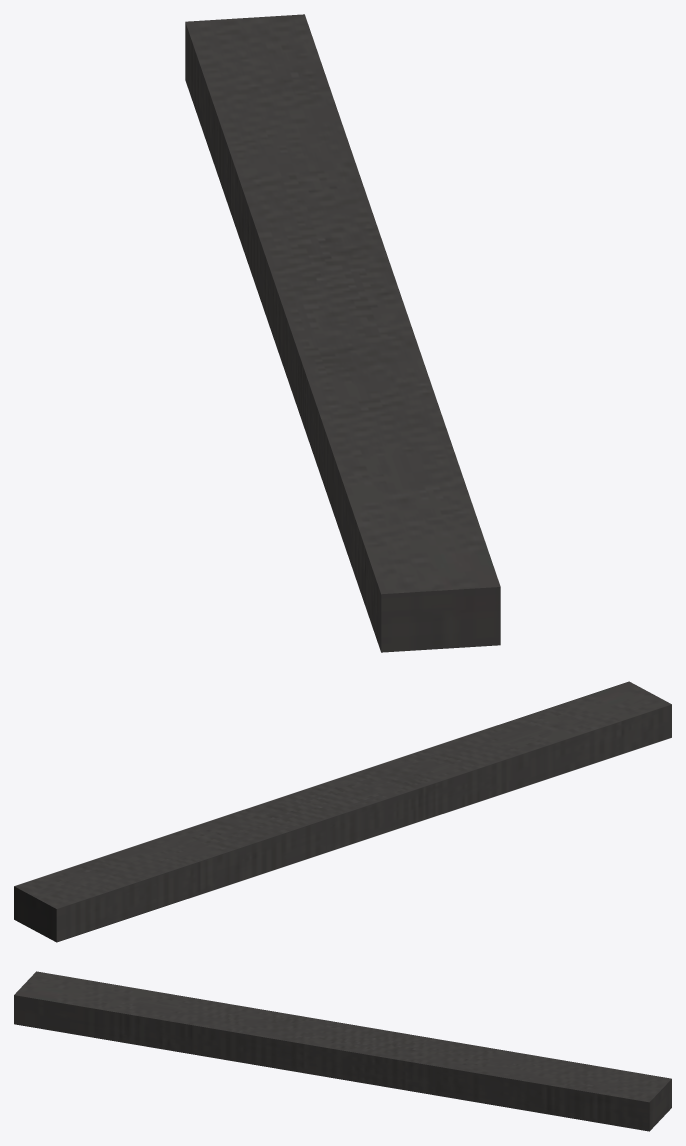
The model's file is ladder_support__side_bar_0.glb.
3 views of the same model, one above another, from view 1: azimuth 30°, elevation 25°; view 2: azimuth 150°, elevation 25°; view 3: azimuth 270°, elevation 25° (orthographic). The views are drawn at different scales.
Parts seen in each view (by area): view 1: world; view 2: world; view 3: world.
Boxes of the visible parts, box(x1,y1,x2,y2) form: world: box(185, 14, 500, 652); world: box(14, 681, 671, 942); world: box(14, 971, 671, 1131).
Bounding box in the file's own units: 0.154 × 0.016 × 0.3269.
1 material, 1 textured.
